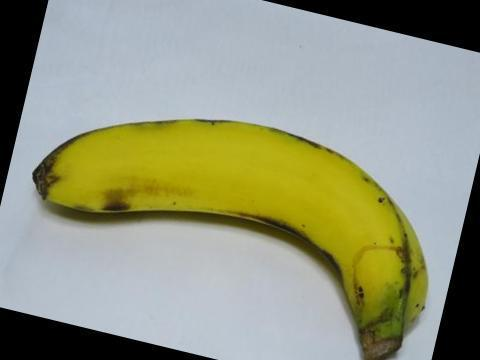freshripe: (17, 109, 443, 359)
